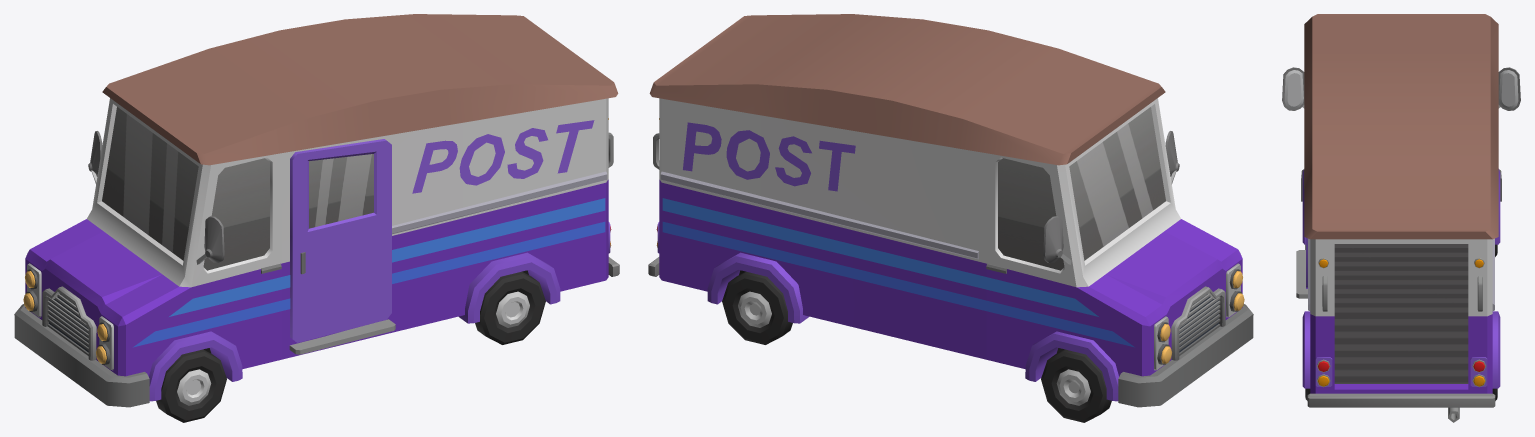
File: PostCar_2_G.gltf
The picture shows the model from 3 angles, left to right: view 1: azimuth 30°, elevation 25°; view 2: azimuth 150°, elevation 25°; view 3: azimuth 270°, elevation 25°; orthographic projection. The views are drawn at different scales.
Visible parts, largest first — view 1: PostCar_2_G, FL, RL; view 2: PostCar_2_G, FR, RR; view 3: PostCar_2_G.
Part boxes in pixels (left/top/right/bottom): PostCar_2_G: left=14, top=14, right=619, bottom=407; FL: left=156, top=349, right=226, bottom=422; RL: left=475, top=271, right=545, bottom=344; PostCar_2_G: left=648, top=14, right=1253, bottom=407; FR: left=1041, top=349, right=1111, bottom=422; RR: left=722, top=271, right=792, bottom=344; PostCar_2_G: left=1282, top=14, right=1520, bottom=422.
Size of the model in its own units: 4.14 by 2.11 by 1.8.
Materials: 5 (5 with a texture image).
